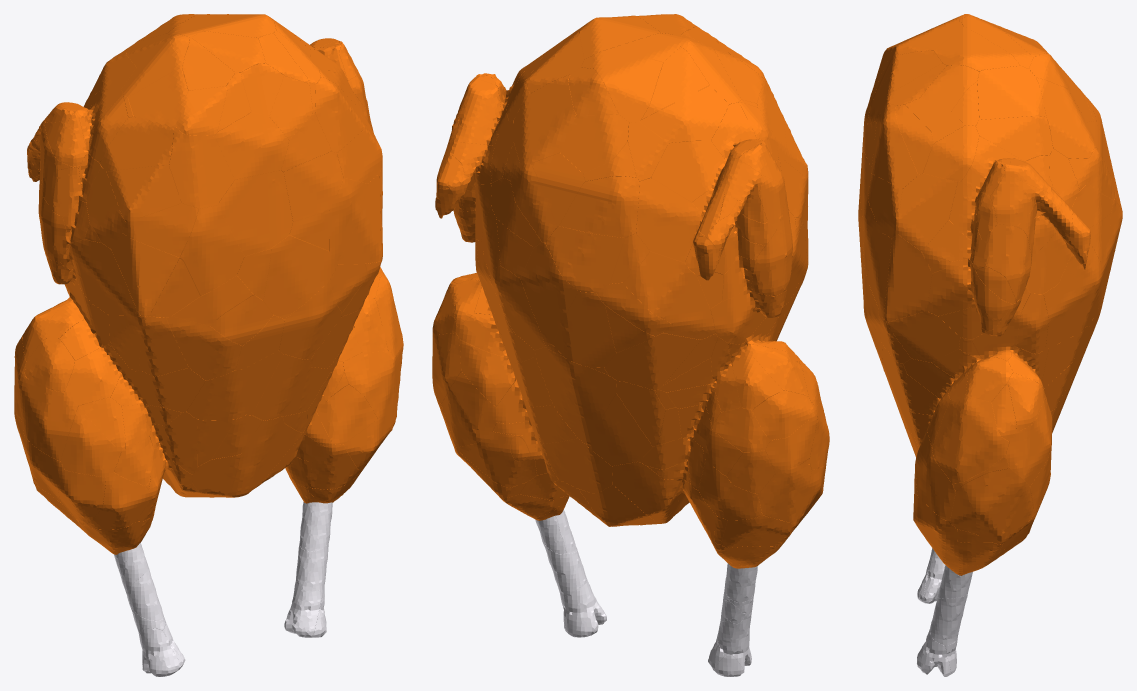
File: FriedChicken.fbx
3 views of the same model, side by side, from view 1: azimuth 30°, elevation 25°; view 2: azimuth 150°, elevation 25°; view 3: azimuth 270°, elevation 25° (orthographic). The views are drawn at different scales.
Parts seen in each view (by area): view 1: Body_cell.231, Body_cell.037, Body_cell.288, Body_cell.184, Body_cell.046, Body_cell.303, Body_cell.106, Body_cell.032, Body_cell.136, Body_cell.005, Body_cell.308, Body_cell.186 (+81 smaller); view 2: Body_cell.063, Body_cell.334, Body_cell.268, Body_cell.083, Body_cell.107, Body_cell.153, Body_cell.196, Body_cell.237, Body_cell.249, Body_cell.097, Body_cell.081, Body_cell.195 (+92 smaller); view 3: Body_cell.274, Body_cell.123, Body_cell.309, Body_cell.335, Body_cell.090, Body_cell.332, Body_cell.268, Body_cell.026, Body_cell.299, Body_cell.040, Body_cell.278, Body_cell.060 (+70 smaller).
Part boxes in pixels (<box>): Body_cell.231: <box>217,170,292,256</box>; Body_cell.037: <box>263,235,337,319</box>; Body_cell.288: <box>169,127,234,208</box>; Body_cell.184: <box>179,205,244,296</box>; Body_cell.046: <box>214,112,288,179</box>; Body_cell.303: <box>60,239,136,315</box>; Body_cell.106: <box>20,378,78,461</box>; Body_cell.032: <box>111,233,179,316</box>; Body_cell.136: <box>106,165,181,222</box>; Body_cell.005: <box>101,116,173,171</box>; Body_cell.308: <box>283,151,343,221</box>; Body_cell.186: <box>166,316,241,380</box>; Body_cell.063: <box>535,347,616,444</box>; Body_cell.334: <box>636,178,703,262</box>; Body_cell.268: <box>513,75,575,163</box>; Body_cell.083: <box>622,251,709,324</box>; Body_cell.107: <box>559,176,639,237</box>; Body_cell.153: <box>545,226,625,292</box>; Body_cell.196: <box>552,291,616,367</box>; Body_cell.237: <box>520,242,578,345</box>; Body_cell.249: <box>651,140,728,202</box>; Body_cell.097: <box>640,85,729,143</box>; Body_cell.081: <box>560,114,628,173</box>; Body_cell.195: <box>594,59,662,122</box>; Body_cell.274: <box>932,395,1009,483</box>; Body_cell.123: <box>950,468,1034,544</box>; Body_cell.309: <box>898,173,957,251</box>; Body_cell.335: <box>977,65,1046,119</box>; Body_cell.090: <box>884,234,932,322</box>; Body_cell.332: <box>972,224,1031,302</box>; Body_cell.268: <box>1036,77,1094,158</box>; Body_cell.026: <box>975,116,1052,161</box>; Body_cell.299: <box>887,311,960,362</box>; Body_cell.040: <box>871,102,918,188</box>; Body_cell.278: <box>1006,398,1051,486</box>; Body_cell.060: <box>933,27,1019,71</box>.
Size of the model in its own units: 8.22 by 13.16 by 5.21.
